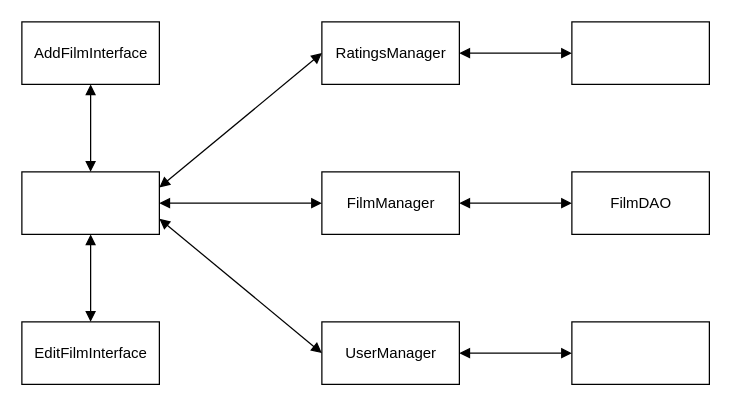
Some shapes in this 731 by 406 pixel diagram are drawn without their labels. The shapes that lost their labels are listed below. From the top down, each one's box as (x1, y1, x2, y2) in pixels, then its label:
(571, 21, 709, 84): RatingsDAO
(21, 171, 159, 234): UserInterface
(571, 321, 709, 384): UserDAO
